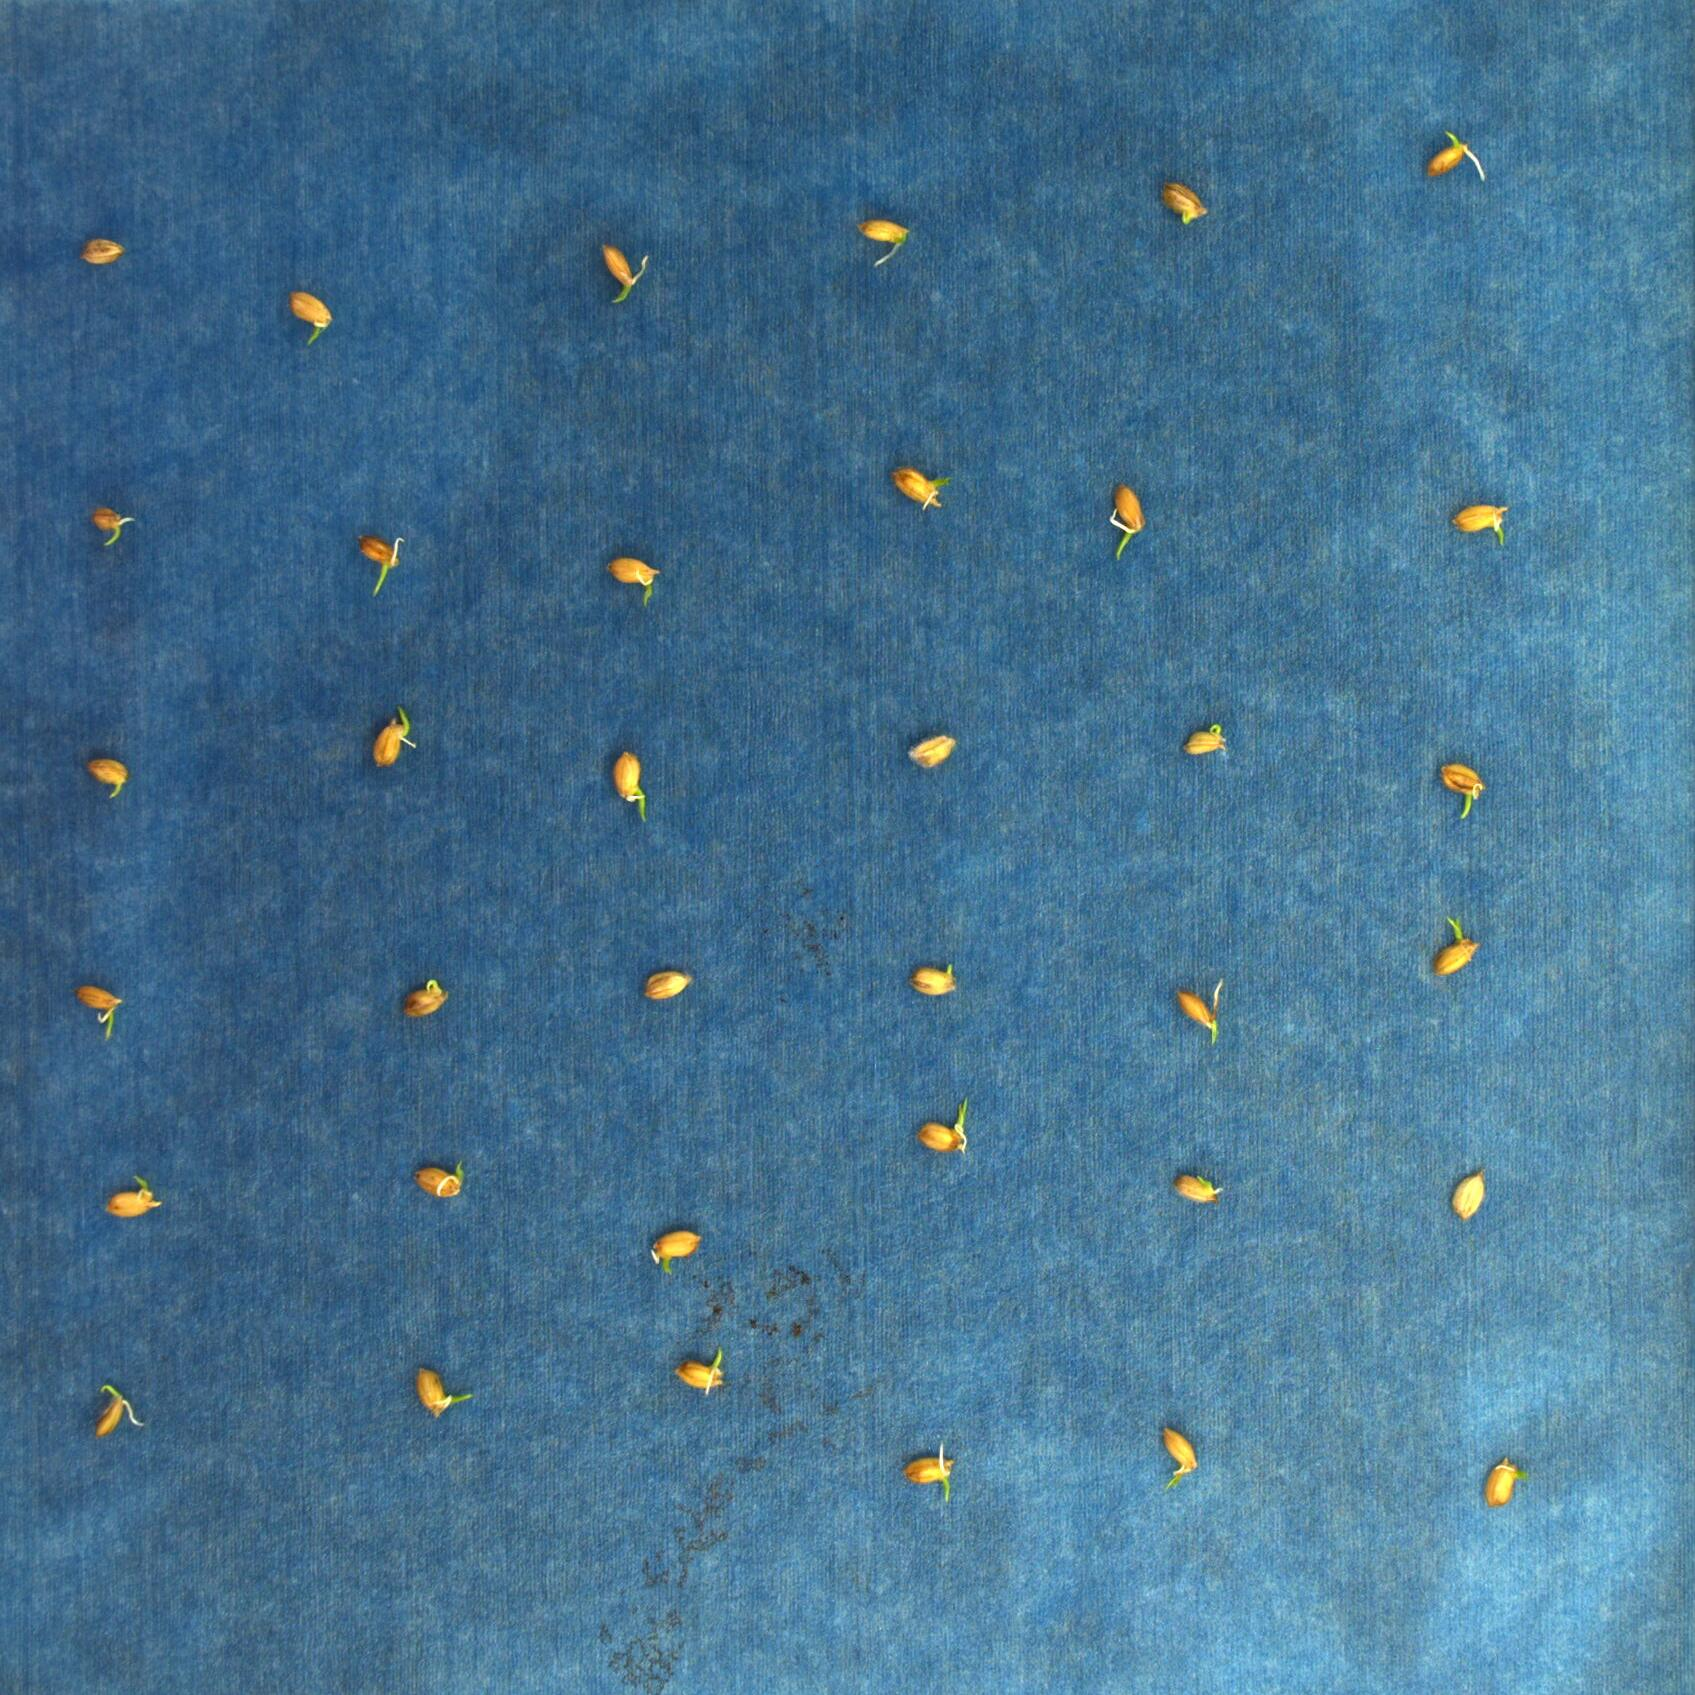not sprout: (1142, 1414, 1214, 1498), (1167, 973, 1236, 1049), (1467, 1450, 1537, 1523), (594, 736, 652, 813), (655, 1347, 739, 1400), (1431, 1161, 1496, 1225), (1448, 489, 1515, 551), (882, 466, 964, 514), (638, 1212, 709, 1267), (287, 279, 351, 334), (402, 1369, 459, 1426), (857, 210, 914, 267), (897, 723, 962, 771), (78, 750, 141, 798), (633, 961, 698, 1007), (410, 1155, 470, 1205), (99, 1186, 166, 1228), (911, 951, 964, 1001), (1170, 1161, 1226, 1208), (1158, 180, 1209, 225), (1173, 719, 1229, 757), (397, 976, 442, 1023), (81, 227, 130, 269)
sprout: (85, 1381, 157, 1456), (914, 1091, 979, 1163), (1107, 477, 1159, 560), (1419, 910, 1487, 973), (348, 528, 410, 594), (897, 1445, 959, 1510), (1422, 130, 1495, 185), (359, 703, 418, 767), (601, 545, 658, 610), (593, 237, 649, 304), (1437, 751, 1489, 821), (73, 978, 126, 1040), (85, 498, 140, 553)
